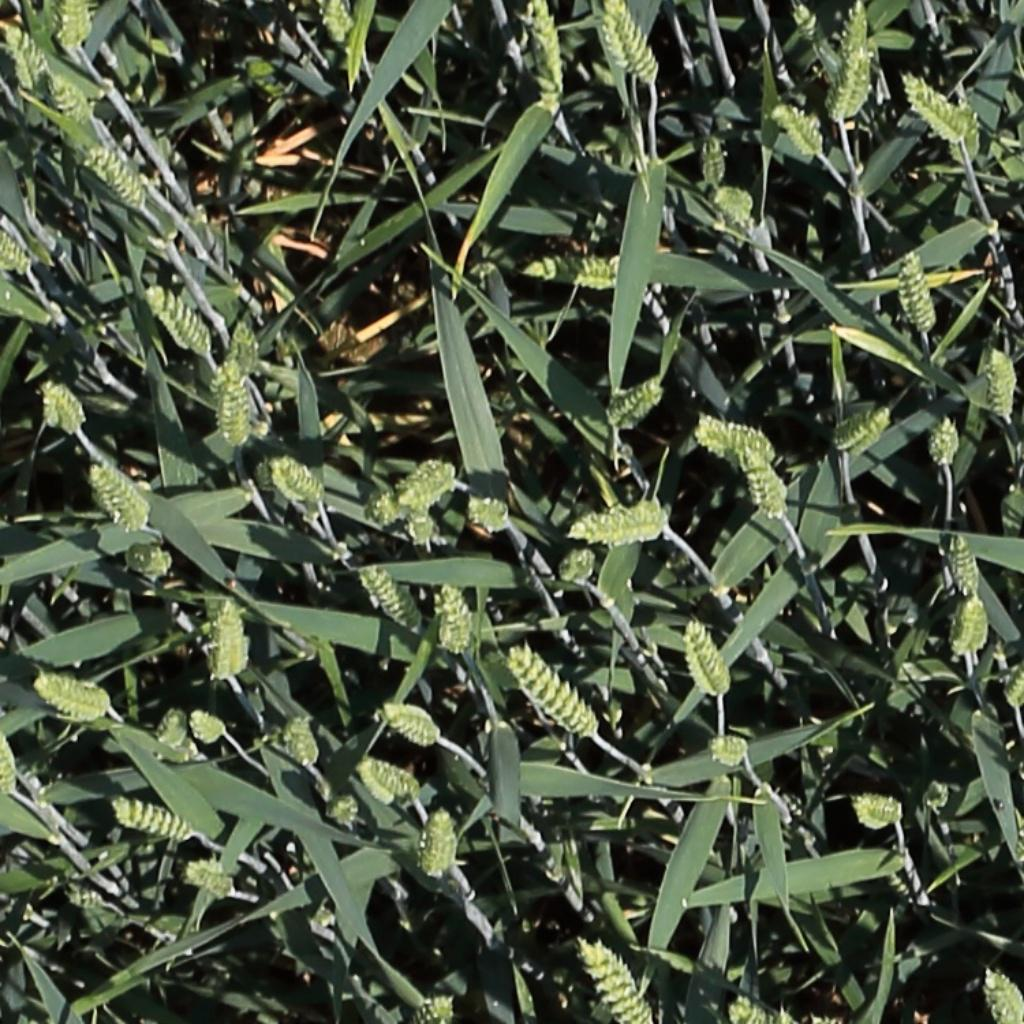0-0: (507, 645, 599, 741), (577, 935, 652, 1024), (607, 0, 664, 91), (357, 559, 423, 637), (144, 283, 214, 356), (903, 70, 972, 143), (570, 499, 671, 548), (99, 146, 164, 219), (87, 460, 151, 532), (529, 1, 567, 118), (690, 406, 775, 458), (384, 452, 461, 509), (892, 243, 937, 339), (742, 441, 794, 524), (684, 617, 734, 703), (209, 592, 255, 678), (831, 39, 875, 126), (709, 176, 763, 243), (770, 98, 830, 158), (416, 801, 461, 881), (0, 21, 50, 91), (109, 801, 195, 841), (43, 66, 95, 132), (525, 260, 632, 292), (607, 378, 666, 432), (599, 5, 638, 81), (40, 375, 86, 438), (219, 357, 249, 451), (34, 679, 110, 716), (836, 406, 895, 453), (270, 457, 327, 505), (947, 528, 983, 602), (985, 341, 1017, 424), (439, 577, 471, 660), (379, 705, 442, 745), (359, 763, 420, 804), (983, 962, 1021, 1024), (954, 592, 987, 663), (285, 711, 320, 775), (841, 0, 873, 69), (253, 443, 293, 495), (60, 0, 95, 58), (317, 782, 359, 828), (232, 312, 259, 382), (708, 728, 756, 767), (367, 481, 403, 533), (932, 409, 961, 472), (184, 866, 236, 901), (696, 121, 722, 187), (0, 219, 31, 273), (834, 408, 877, 446), (790, 0, 823, 49), (322, 0, 354, 50), (0, 719, 19, 802), (188, 709, 228, 745), (465, 498, 512, 528), (1000, 660, 1024, 716), (729, 993, 772, 1024), (417, 991, 456, 1024), (409, 502, 437, 546), (61, 884, 104, 910), (854, 802, 907, 823)
